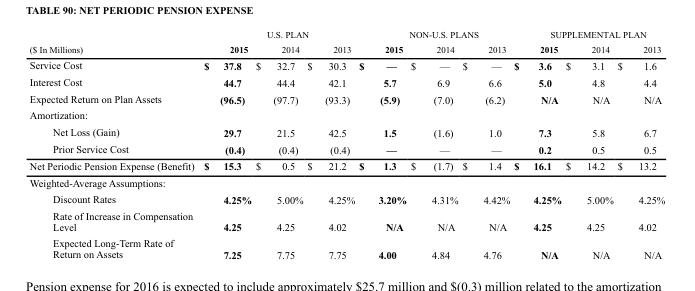table: (28, 28, 664, 259)
table column: (28, 28, 198, 259), (198, 28, 252, 259), (252, 28, 304, 259), (304, 28, 356, 259), (356, 28, 408, 259), (459, 28, 511, 259), (511, 28, 563, 259), (408, 28, 459, 259), (563, 28, 614, 259), (614, 28, 664, 259)
table column header: (28, 28, 664, 56)
table projected row header: (28, 173, 664, 190), (28, 107, 664, 123)
table row: (28, 207, 664, 234), (28, 234, 664, 259), (28, 56, 664, 73), (28, 73, 664, 90), (28, 90, 664, 107), (28, 123, 664, 140), (28, 140, 664, 157), (28, 173, 664, 190), (28, 190, 664, 207), (28, 107, 664, 123), (28, 157, 664, 173), (28, 41, 664, 56), (28, 28, 664, 41)
table spanning cell: (28, 28, 198, 56), (198, 28, 356, 41), (356, 28, 511, 41), (511, 28, 664, 41)
